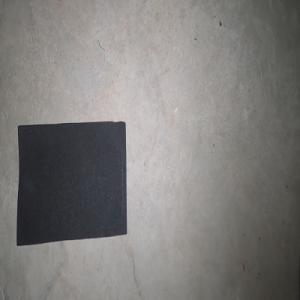PaintChip: (16, 121, 127, 246)
